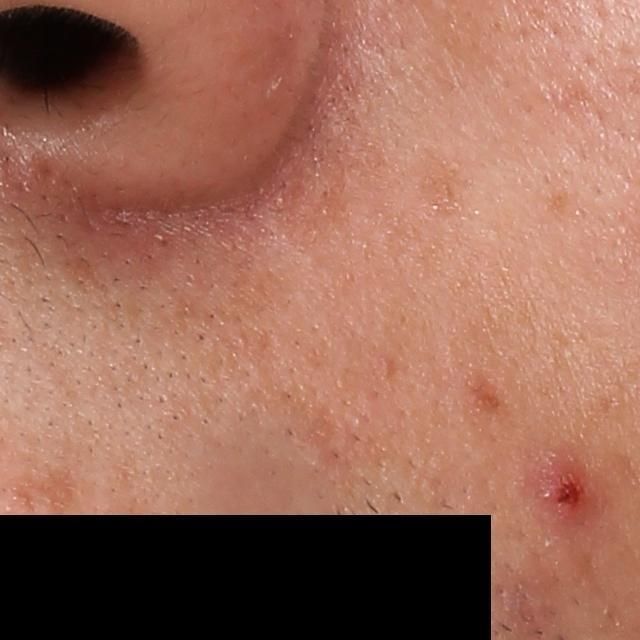papule: (534, 454, 602, 551)
